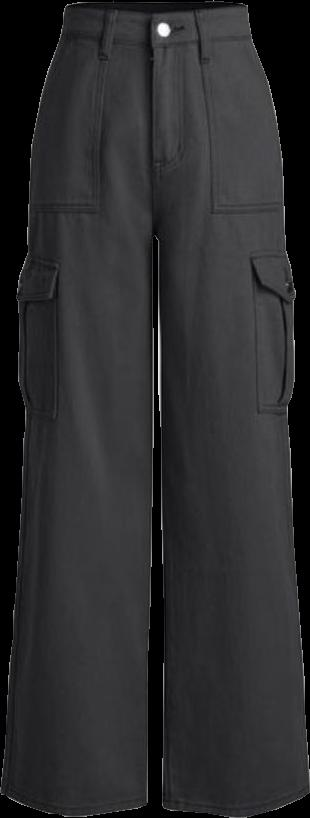Hemline: (0, 782, 150, 817), (161, 786, 309, 817)
Pantleg: (150, 2, 309, 814), (0, 2, 157, 814)
Waistline: (59, 29, 253, 47), (65, 0, 249, 14)
